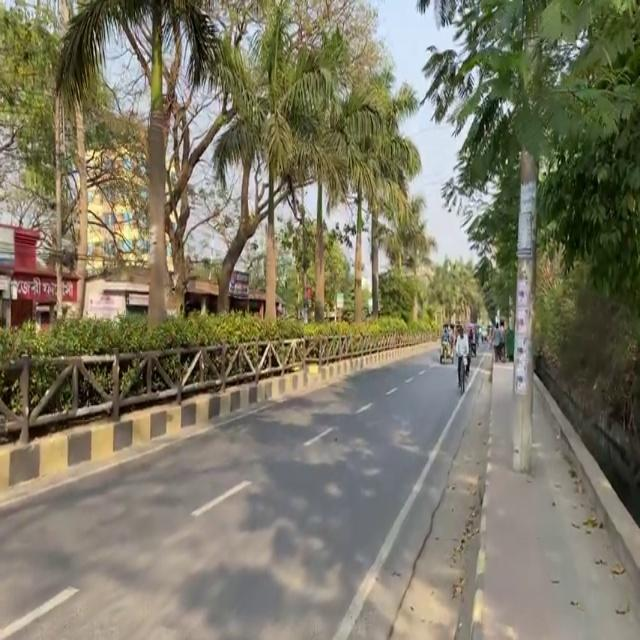Construction-barrier: (0, 325, 441, 508), (532, 364, 639, 577), (450, 347, 494, 639)
Fallen-tree: (455, 350, 472, 393), (438, 336, 453, 364), (496, 342, 506, 362)
Light-pole: (508, 54, 556, 512)
Pothole: (452, 346, 639, 639)
